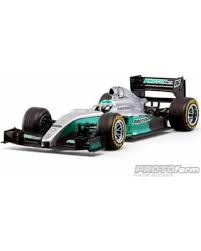FormulaOneCar: (1, 71, 198, 155)
